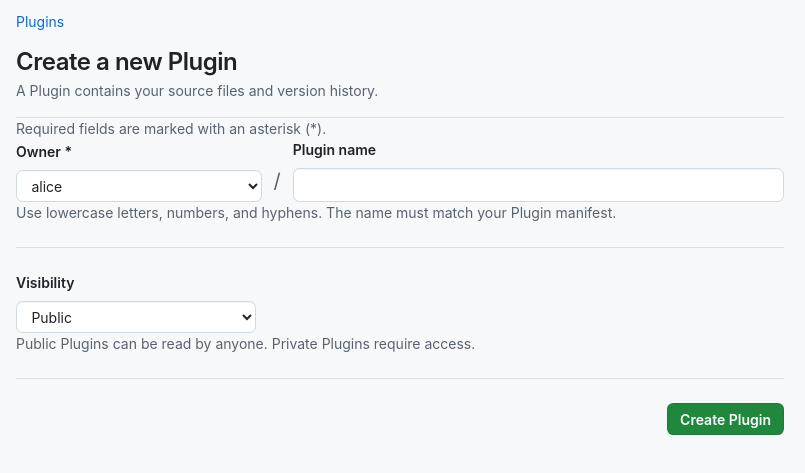
Scenario: Plugin pages › retains creation fields and reports a denied request
Expected: the button "Create Plugin" is enabled, [667, 403, 784, 435]
Type "new-plugin" into the field labelled "Plugin name" at [538, 185], box [293, 168, 784, 202]
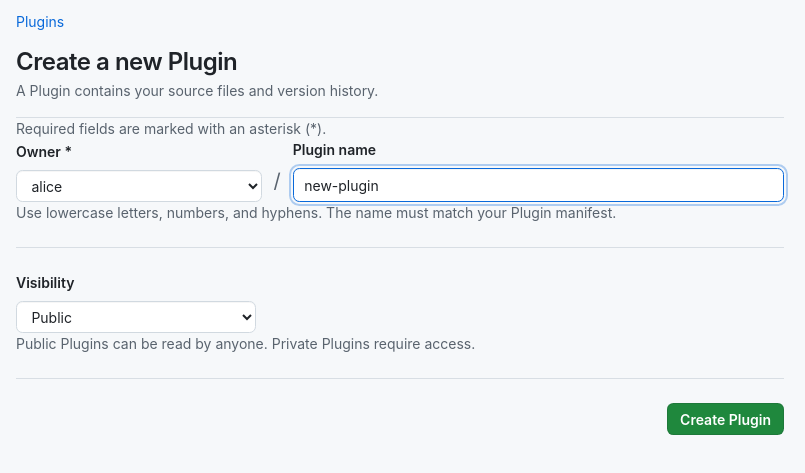
Click the button "Create Plugin" at [726, 419], box [667, 403, 784, 435]
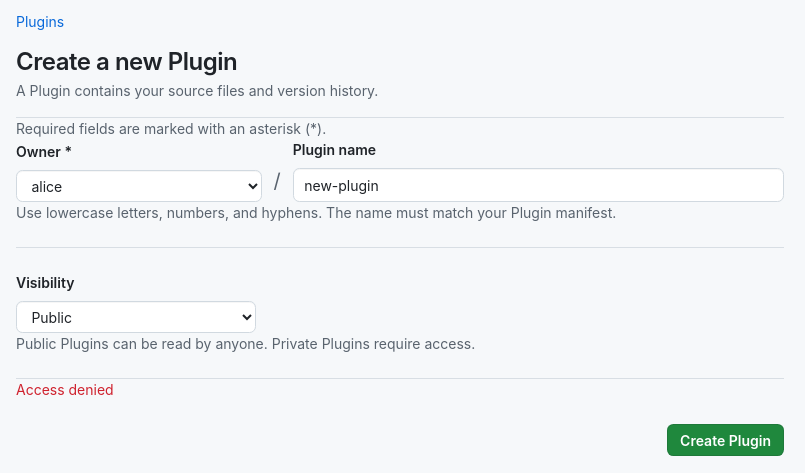
Result: the message reads "Access denied" at [16, 381, 114, 398]
